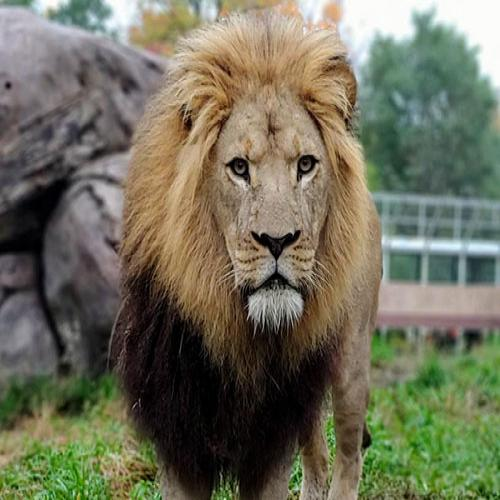lion-endangered: (118, 14, 386, 500)
